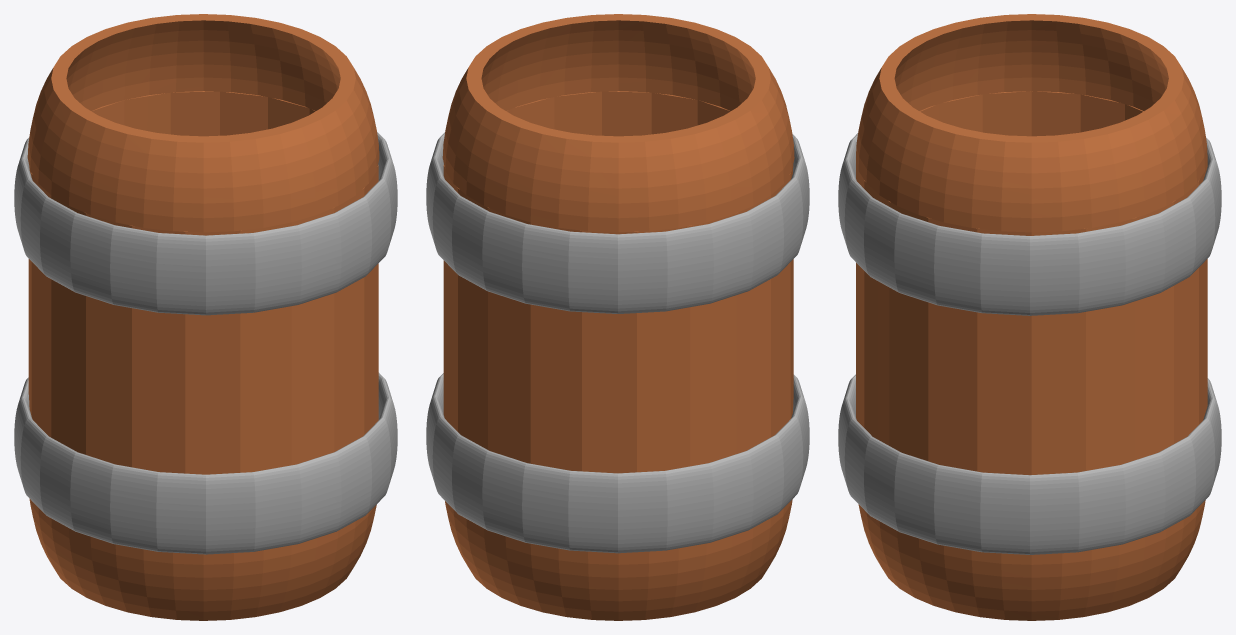
Rendered from Barrel.fbx.
3 views of the same model, side by side, from view 1: azimuth 30°, elevation 25°; view 2: azimuth 150°, elevation 25°; view 3: azimuth 270°, elevation 25° (orthographic).
Parts seen in each view (by area): view 1: obj_0.003; view 2: obj_0.003; view 3: obj_0.003.
Part boxes in pixels (x1=…): obj_0.003: x1=14, y1=14, x2=397, y2=620; obj_0.003: x1=426, y1=14, x2=809, y2=620; obj_0.003: x1=838, y1=14, x2=1221, y2=620.
Size of the model in its own units: 2180 by 3000 by 2180.
